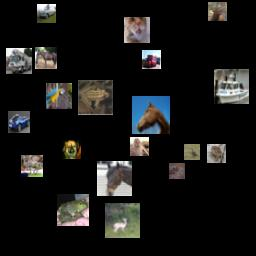automobile: (8, 111, 30, 133), (37, 4, 56, 23)
bird: (46, 83, 72, 109), (130, 137, 149, 156), (184, 144, 200, 160)
cat: (124, 17, 150, 43)
deer: (105, 203, 140, 238), (208, 2, 227, 21), (169, 163, 185, 179)
dog: (62, 140, 81, 159)
frog: (78, 80, 113, 115), (57, 194, 89, 226), (207, 144, 226, 163)
ship: (214, 69, 249, 104)
truck: (6, 48, 32, 74), (142, 50, 161, 69)
